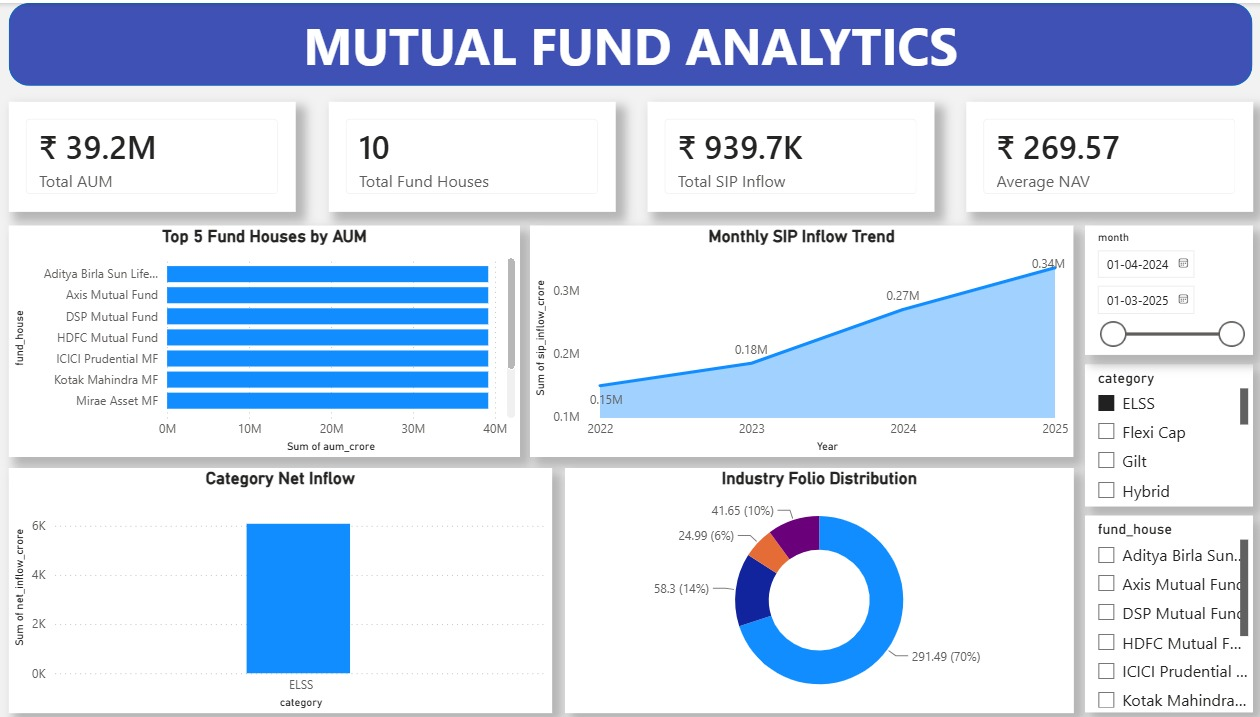

The dashboard page shown, as its layout file describes it:
{"tool":"powerbi","page":{"name":"Page 1","canvas":[1280,720],"ordinal":0},"visuals":[{"type":"cardVisual","fields":{"Data":["01_fund_master_cleaned.Total AUM"]},"box":[19.2,98.8,285.4,109.8],"z":0},{"type":"cardVisual","fields":{"Data":["01_fund_master_cleaned.Total SIP Inflow"]},"box":[654.5,98.8,285.4,109.8],"z":1000},{"type":"cardVisual","fields":{"Data":["01_fund_master_cleaned.Average NAV"]},"box":[971.5,98.8,285.4,109.8],"z":2000},{"type":"cardVisual","fields":{"Data":["01_fund_master_cleaned.Total Fund Houses"]},"box":[337.6,98.8,285.4,109.8],"z":3000},{"type":"shape","box":[19.2,0,1237.7,82.3],"z":4000},{"type":"clusteredBarChart","title":"Top 5 Fund Houses by AUM","fields":{"Y":["Sum(03_aum_by_fund_house_cleaned.aum_crore)"],"Category":["01_fund_master_cleaned.fund_house"]},"box":[19.2,220.9,509.1,230.5],"z":5000},{"type":"areaChart","title":"Monthly SIP Inflow Trend","fields":{"Category":["04_monthly_sip_inflows_cleaned.month.Variation.Date Hierarchy.Year","04_monthly_sip_inflows_cleaned.month.Variation.Date Hierarchy.Month"],"Y":["Sum(04_monthly_sip_inflows_cleaned.sip_inflow_crore)"]},"box":[537.9,220.9,540.7,230.5],"z":6000},{"type":"clusteredColumnChart","title":"Category Net Inflow","fields":{"Category":["05_category_inflows_cleaned.category"],"Y":["Sum(05_category_inflows_cleaned.net_inflow_crore)"]},"box":[19.2,462.4,540.7,244.3],"z":7000},{"type":"donutChart","title":"Industry Folio Distribution","fields":{"Y":["Sum(06_industry_folio_count_cleaned.equity_folios_crore)","Sum(06_industry_folio_count_cleaned.debt_folios_crore)","Sum(06_industry_folio_count_cleaned.hybrid_folios_crore)","Sum(06_industry_folio_count_cleaned.others_folios_crore)"]},"box":[572.2,462.4,506.3,244.3],"z":8000},{"type":"slicer","fields":{"Values":["05_category_inflows_cleaned.category"]},"box":[1089.5,359.5,167.4,141.3],"z":9000},{"type":"slicer","fields":{"Values":["05_category_inflows_cleaned.month"]},"box":[1089.5,220.9,167.4,129],"z":10000},{"type":"slicer","fields":{"Values":["03_aum_by_fund_house_cleaned.fund_house"]},"box":[1089.5,510.5,167.4,196.2],"z":11000}]}

Visuals, with their boxes in screenshot pixels (x1, y1, x2, y2), scaled from the page's 1280x720 canvas onto the 1260x717 screenshot:
cardVisual - 01_fund_master_cleaned.Total AUM: [19, 98, 300, 208]
cardVisual - 01_fund_master_cleaned.Total SIP Inflow: [644, 98, 925, 208]
cardVisual - 01_fund_master_cleaned.Average NAV: [956, 98, 1237, 208]
cardVisual - 01_fund_master_cleaned.Total Fund Houses: [332, 98, 613, 208]
shape: [19, 0, 1237, 82]
"Top 5 Fund Houses by AUM" clusteredBarChart: [19, 220, 520, 450]
"Monthly SIP Inflow Trend" areaChart: [529, 220, 1062, 450]
"Category Net Inflow" clusteredColumnChart: [19, 460, 551, 704]
"Industry Folio Distribution" donutChart: [563, 460, 1062, 704]
slicer - 05_category_inflows_cleaned.category: [1072, 358, 1237, 499]
slicer - 05_category_inflows_cleaned.month: [1072, 220, 1237, 348]
slicer - 03_aum_by_fund_house_cleaned.fund_house: [1072, 508, 1237, 704]
